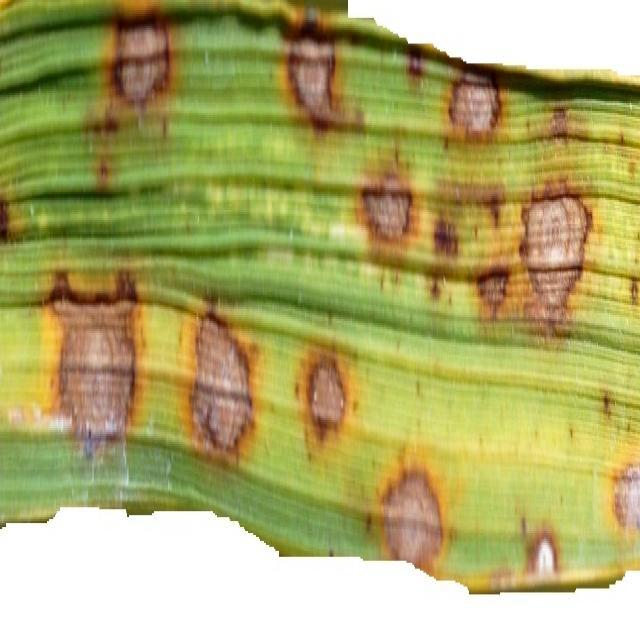Brownspot: (51, 274, 135, 451), (521, 195, 590, 321), (191, 315, 252, 451), (383, 471, 442, 566), (112, 16, 170, 107), (287, 22, 335, 129), (361, 173, 412, 241), (449, 72, 499, 135), (307, 357, 345, 439), (439, 181, 504, 226), (614, 465, 640, 530), (477, 267, 508, 318), (527, 531, 557, 578), (86, 108, 119, 137), (433, 218, 457, 256), (550, 107, 568, 139), (407, 46, 423, 79), (487, 192, 501, 226), (97, 157, 110, 189), (0, 198, 8, 241), (430, 277, 440, 299), (603, 391, 611, 417), (630, 279, 638, 305), (628, 161, 636, 177)
